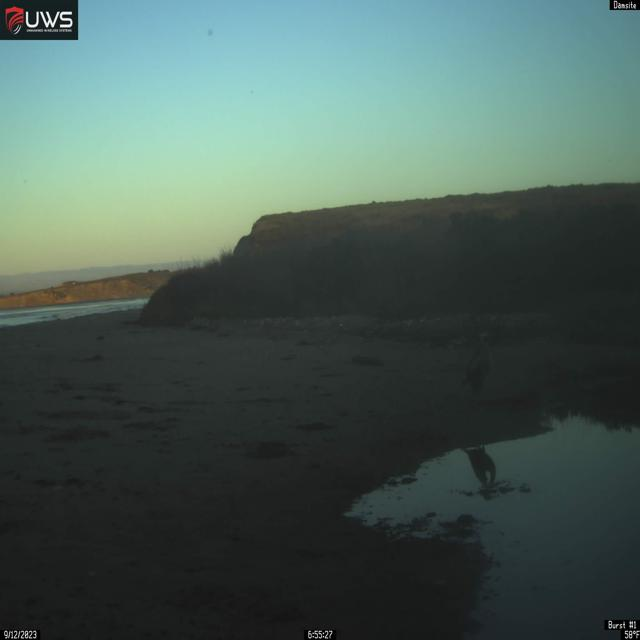bird: (461, 331, 494, 407)
